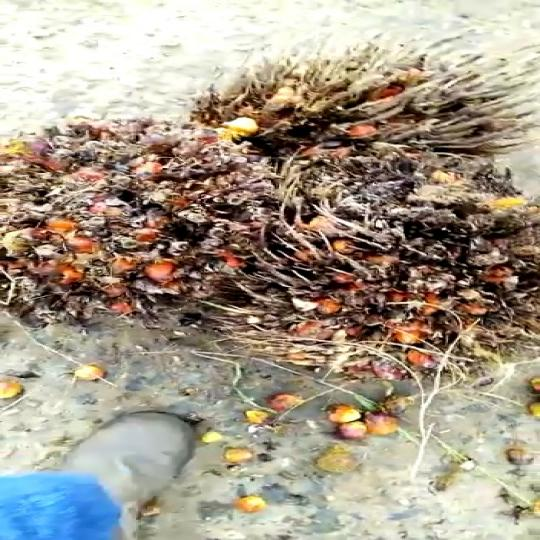terlalu masak: (0, 107, 301, 333), (207, 196, 540, 380), (173, 65, 540, 186)
